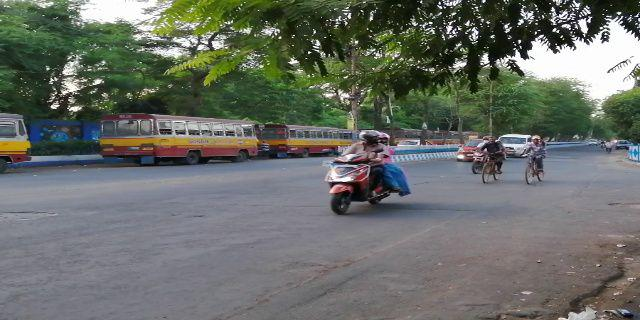Bus: (95, 113, 260, 167), (260, 123, 346, 155), (1, 109, 35, 178)
Cycle: (478, 135, 506, 189), (522, 135, 548, 187)
Motorbike: (322, 127, 403, 220)
